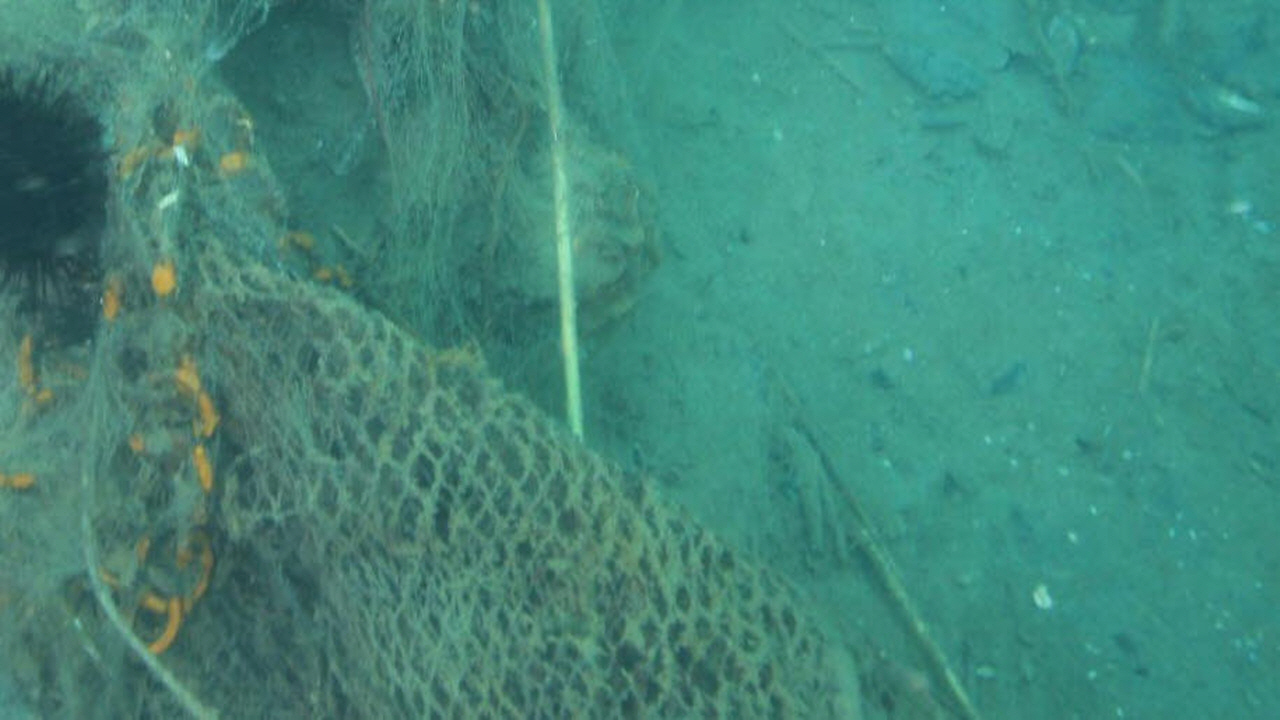fish net: (172, 251, 823, 720)
rope: (534, 0, 584, 443)
